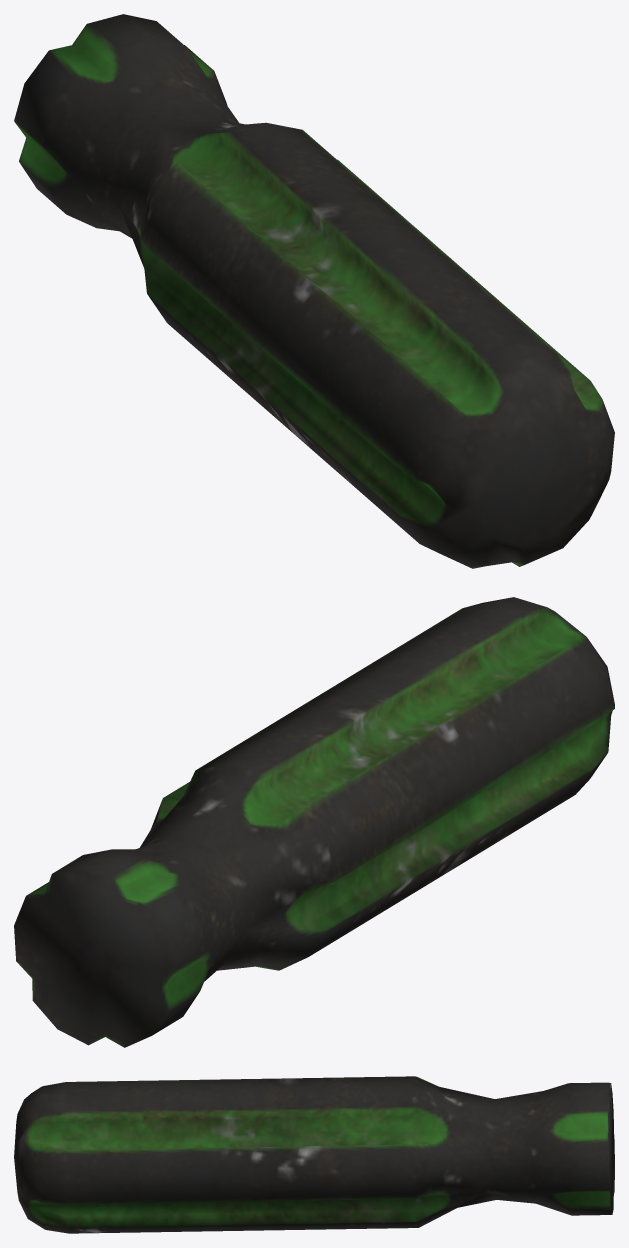
The model's file is Screwdriver_L_Handle_low_1.obj.
3 renders of one model, top to bottom at view 1: azimuth 30°, elevation 25°; view 2: azimuth 150°, elevation 25°; view 3: azimuth 270°, elevation 25°, orthographic. The views are drawn at different scales.
Bounding box in the file's own units: 0.031 × 0.0307 × 0.1119.
Materials: 1 (1 with a texture image).
